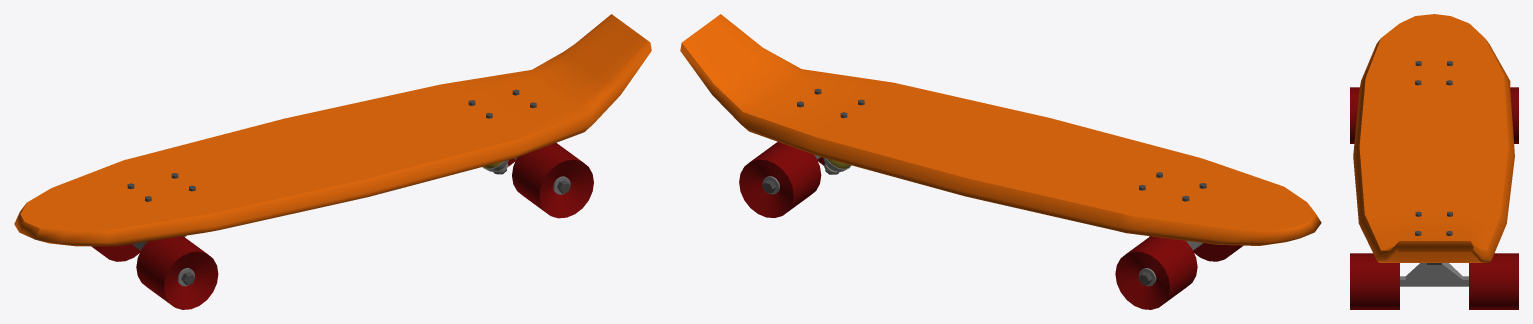
File: maya2sketchfab.fbx
3 renders of one model, left to right at view 1: azimuth 30°, elevation 25°; view 2: azimuth 150°, elevation 25°; view 3: azimuth 270°, elevation 25°, orthographic. The views are drawn at different scales.
Parts seen in each view (by area): view 1: Board, Wheel (×3); view 2: Board, Wheel (×3); view 3: Board, Wheel (×4), Axle_Support, Axle.
Boxes of the visible parts, x1,y1,x2,y2 form: Board: (14, 14, 651, 246); Wheel (×3): (91, 143, 593, 309); Board: (680, 14, 1321, 245); Wheel (×3): (739, 142, 1242, 309); Board: (1353, 14, 1514, 262); Wheel (×4): (1350, 87, 1518, 309); Axle_Support: (1405, 263, 1462, 279); Axle: (1400, 276, 1468, 286).
Bounding box in the file's own units: 13.92 × 2.78 × 3.67.
